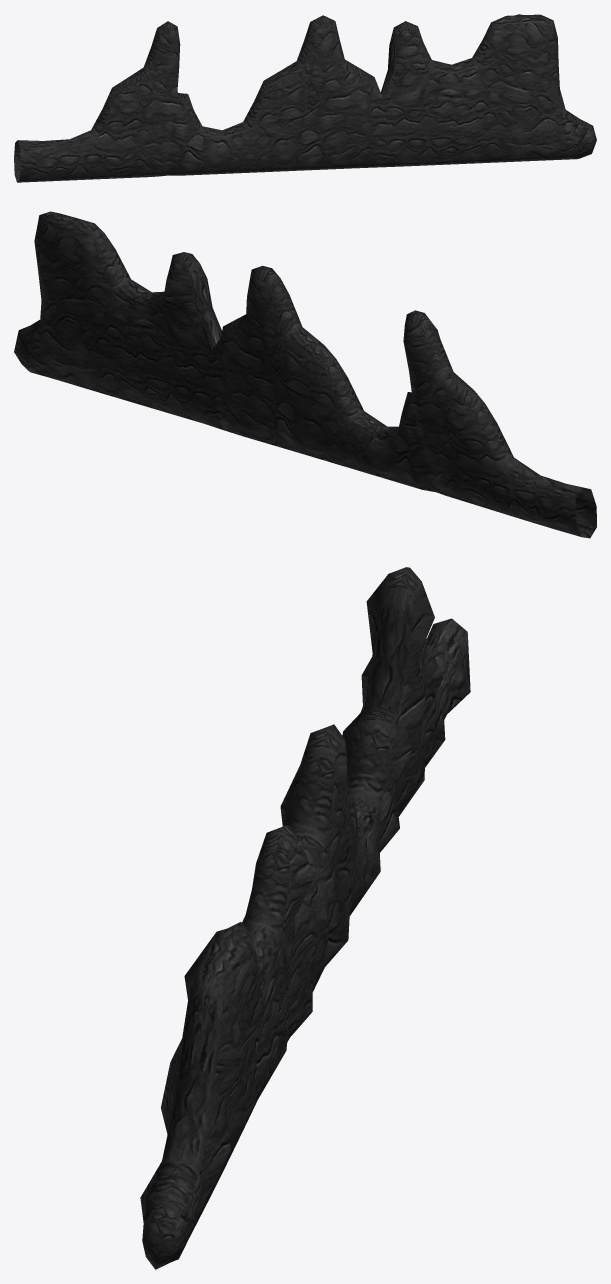
The model's file is BrickWallStraight3Shape.dae.
The picture shows the model from 3 angles, top to bottom: view 1: azimuth 30°, elevation 25°; view 2: azimuth 150°, elevation 25°; view 3: azimuth 270°, elevation 25°; orthographic projection. The views are drawn at different scales.
Parts seen in each view (by area): view 1: BrickWallStraight3; view 2: BrickWallStraight3; view 3: BrickWallStraight3.
Boxes of the visible parts, x1,y1,x2,y2 form: BrickWallStraight3: [14, 14, 596, 182]; BrickWallStraight3: [14, 211, 596, 538]; BrickWallStraight3: [140, 567, 470, 1269].
Bounding box in the file's own units: 41.66 × 13.92 × 11.68.
